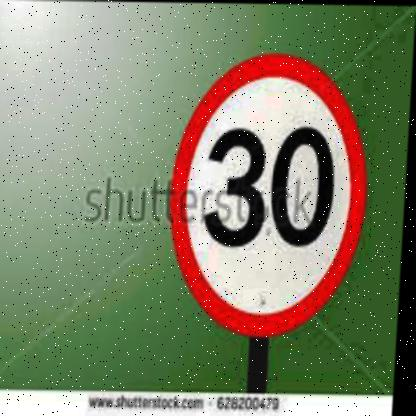Speed Limit -30-: (159, 49, 380, 346)
